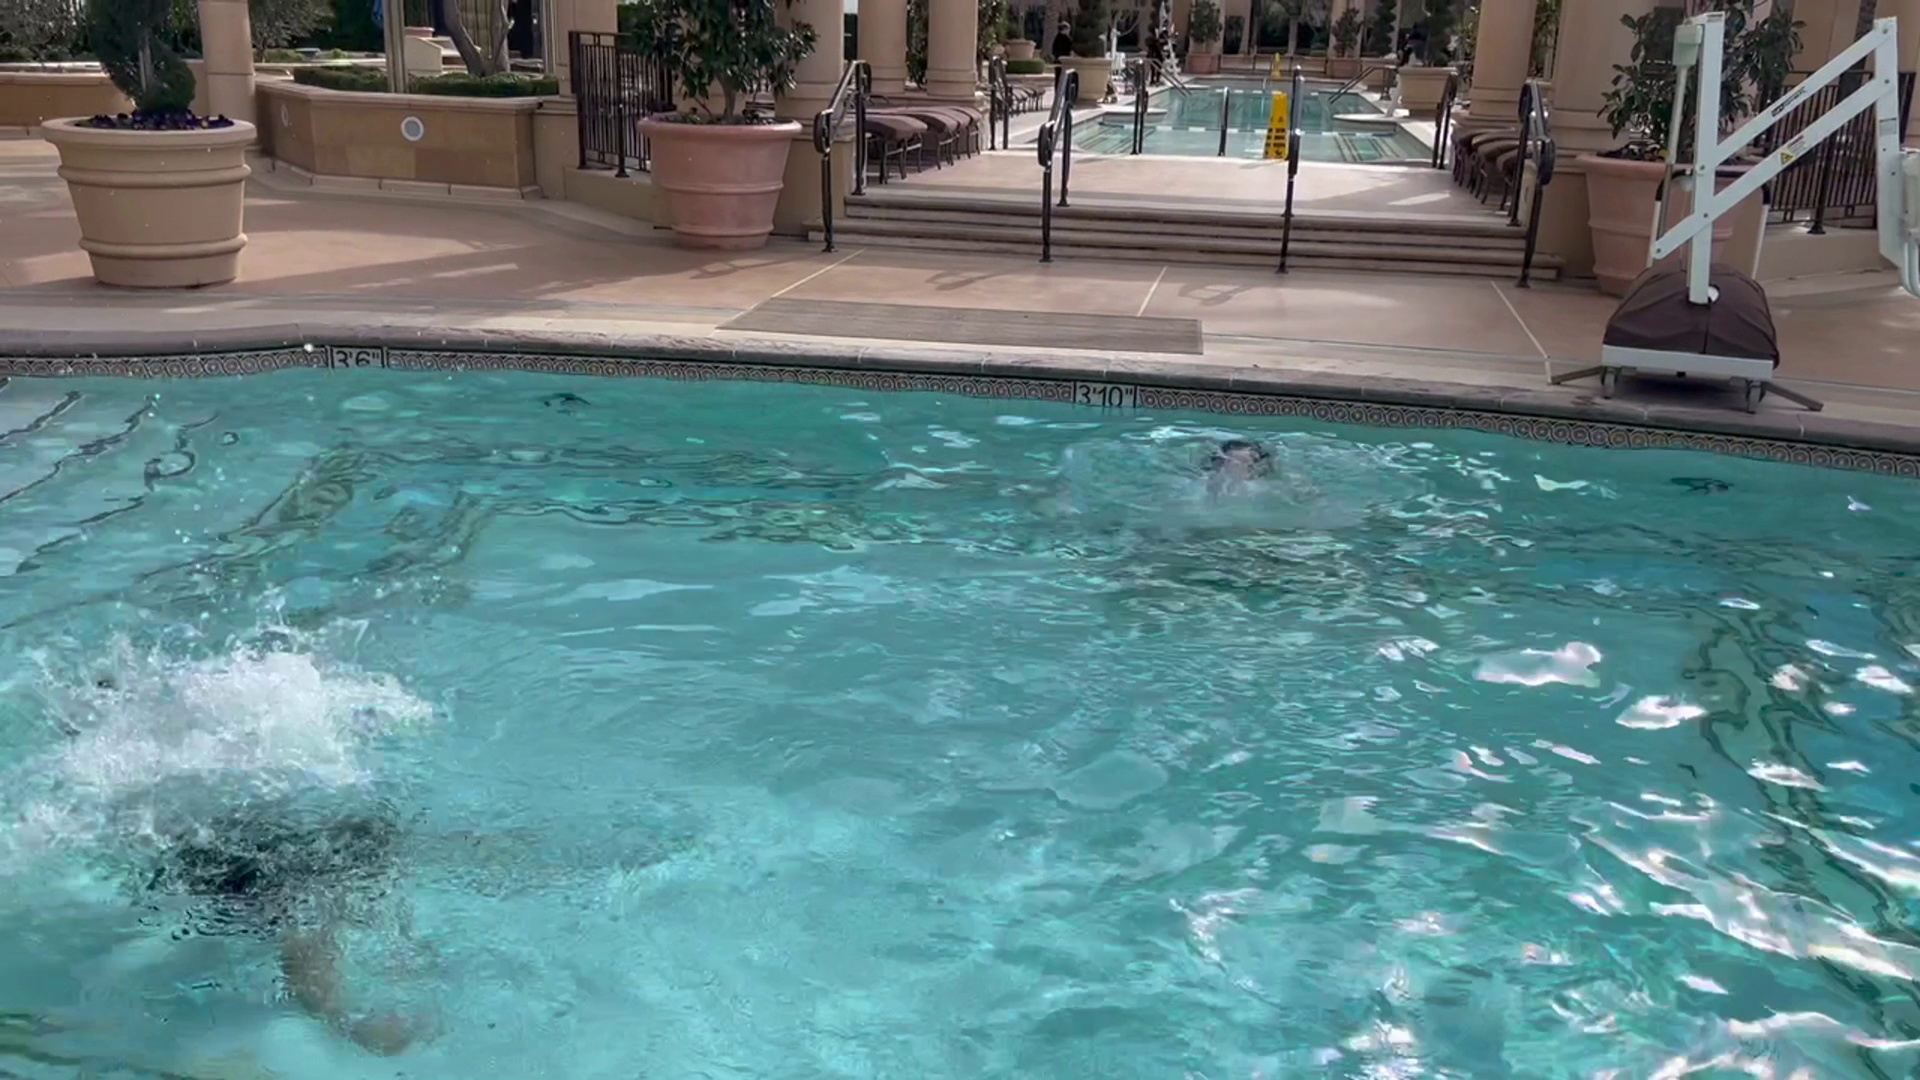danger: (9, 585, 475, 880)
